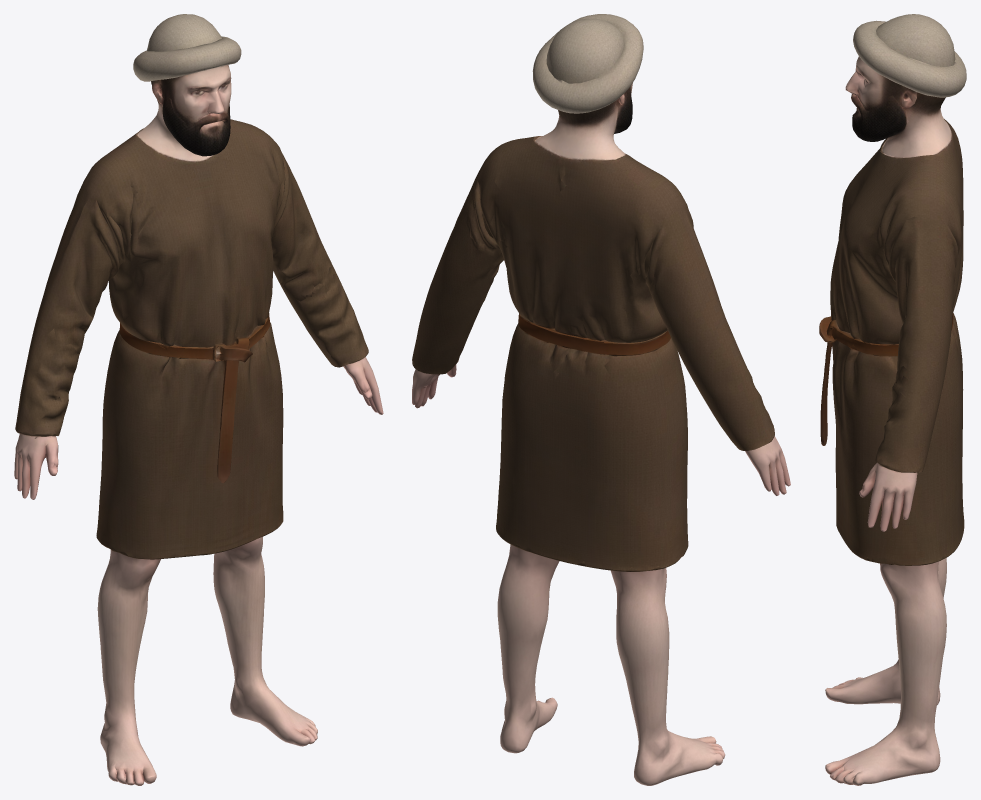
File: israelite_chapeau_1.glb
The picture shows the model from 3 angles, left to right: view 1: azimuth 30°, elevation 25°; view 2: azimuth 150°, elevation 25°; view 3: azimuth 270°, elevation 25°; orthographic projection. The views are drawn at different scales.
Visible parts, largest first — view 1: Mesh; view 2: Mesh; view 3: Mesh.
Boxes of the visible parts, x1,y1,x2,y2 form: Mesh: (14,14,383,785); Mesh: (412,14,790,785); Mesh: (819,14,966,785).
Size of the model in its own units: 0.9835 by 1.9 by 0.3521.
1 material, 1 textured.
